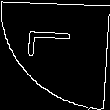L_E: (27, 38, 83, 72)
